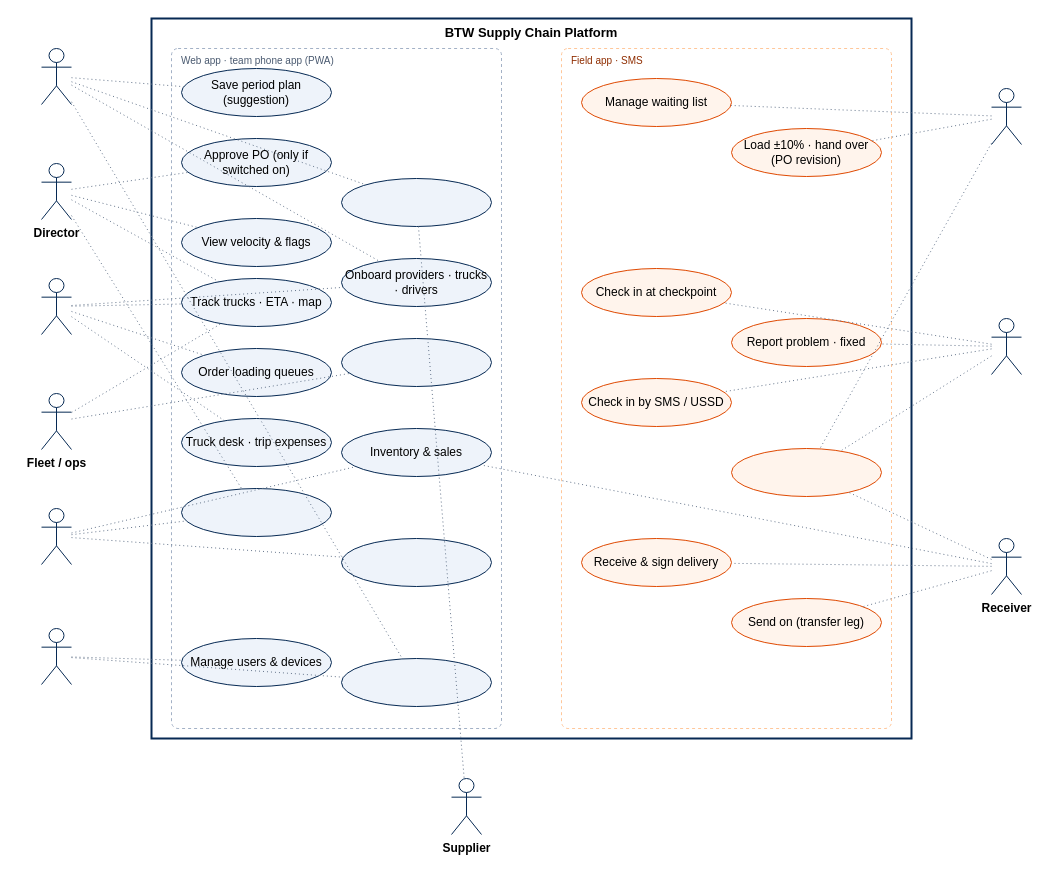
Some shapes in this 1063 by 872 pixel diagram are drawn without their labels. Here are the shapes that lost their labels. From the top down, the box of each, then its label:
(40, 48, 72, 104): Planner
(990, 88, 1022, 144): Loading point
(340, 178, 492, 226): Issue & email PO
(40, 278, 72, 334): Truck planner
(340, 338, 492, 386): Log issue · plan transfer leg
(990, 318, 1022, 374): Driver
(730, 448, 882, 496): Work offline · sync
(180, 488, 332, 536): Record payments · approve
(40, 508, 72, 564): Accounts
(340, 538, 492, 586): Landing cost per truck
(40, 628, 72, 684): Admin
(340, 658, 492, 706): Manage master data · routes
